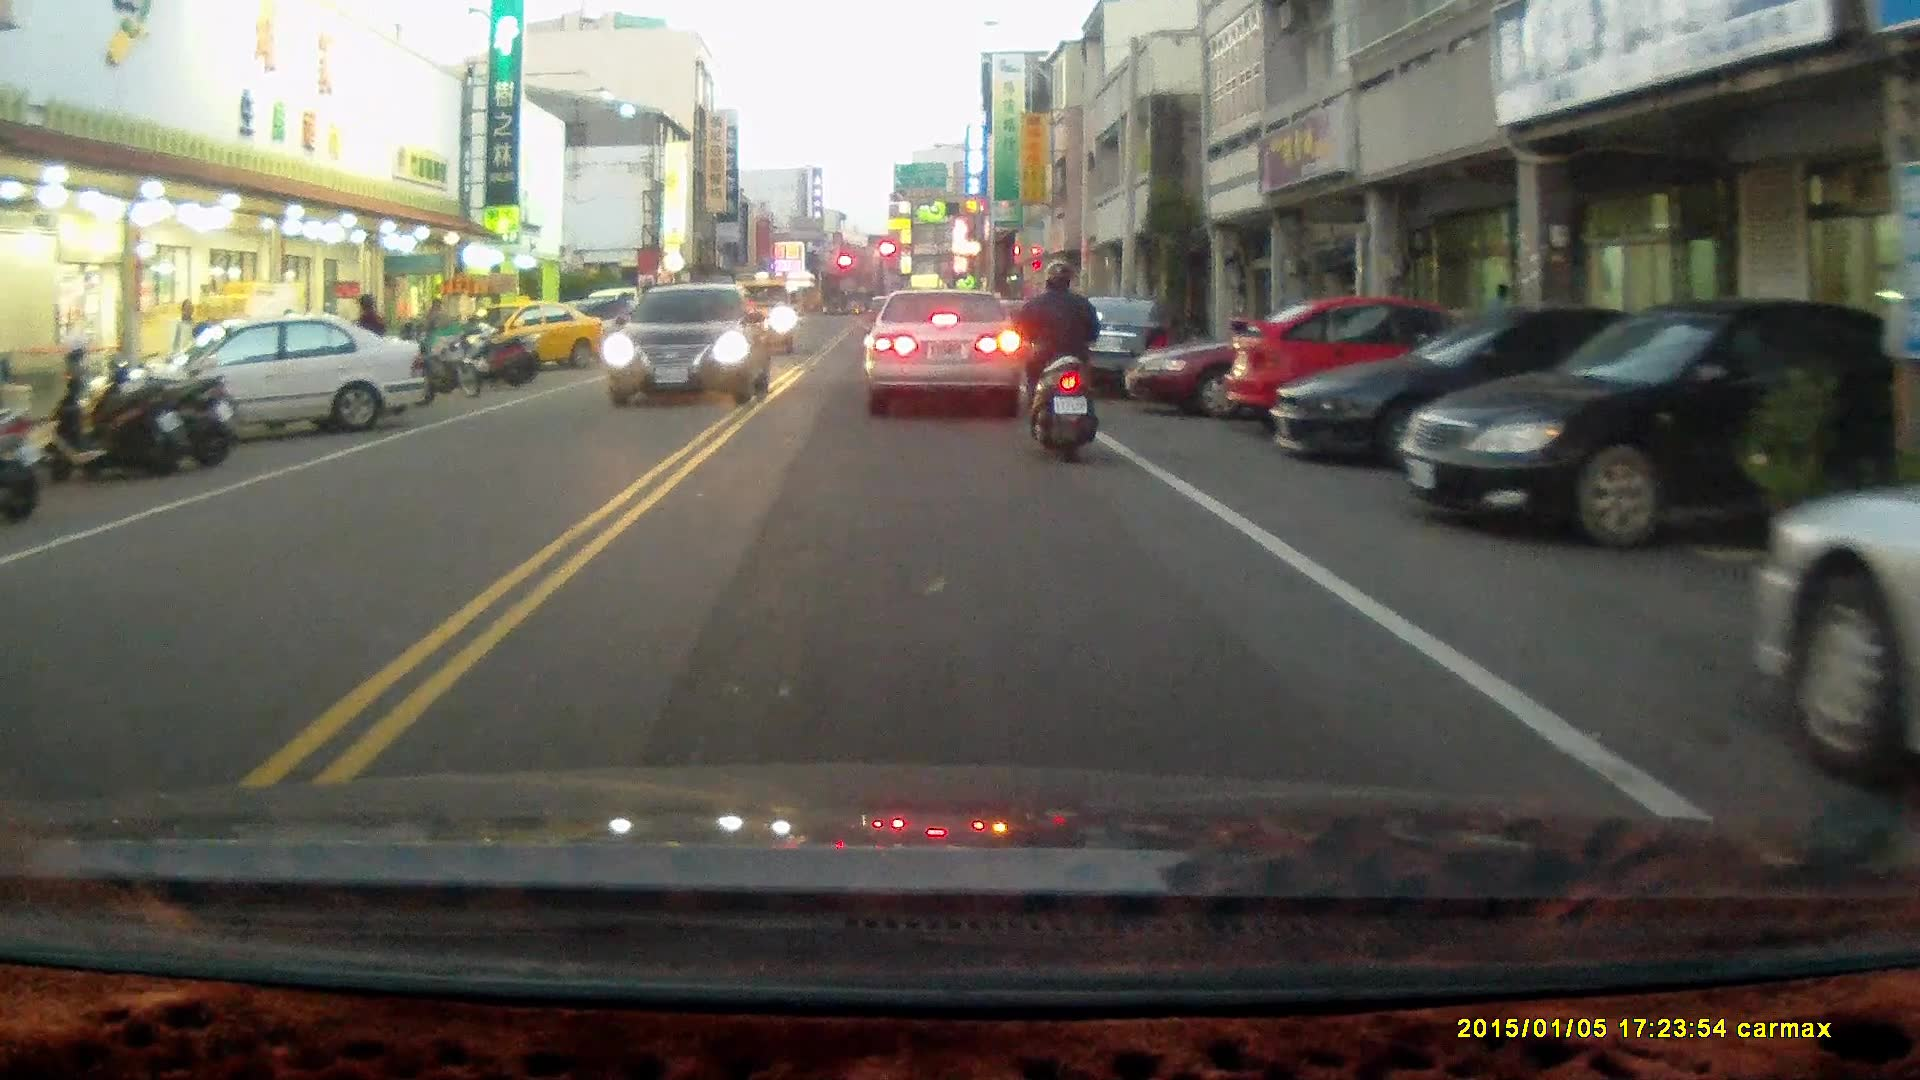pedestrian: (349, 291, 385, 389), (167, 297, 203, 394)
rider: (1008, 258, 1102, 467)
vehicle: (1397, 296, 1891, 549), (1745, 398, 1920, 805), (1276, 310, 1691, 480), (90, 311, 425, 448), (1220, 295, 1509, 439), (1124, 305, 1453, 425), (865, 287, 1028, 422), (605, 281, 769, 409), (1043, 295, 1181, 400), (489, 305, 612, 381)
